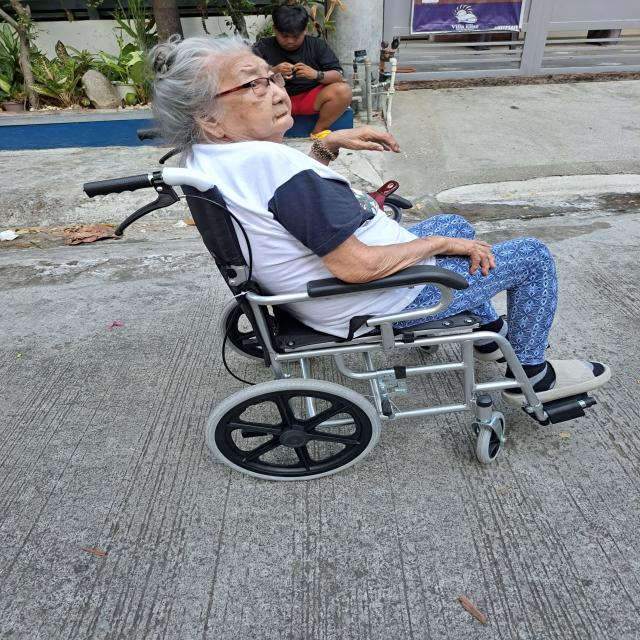wheelchairs: (73, 122, 604, 486)
